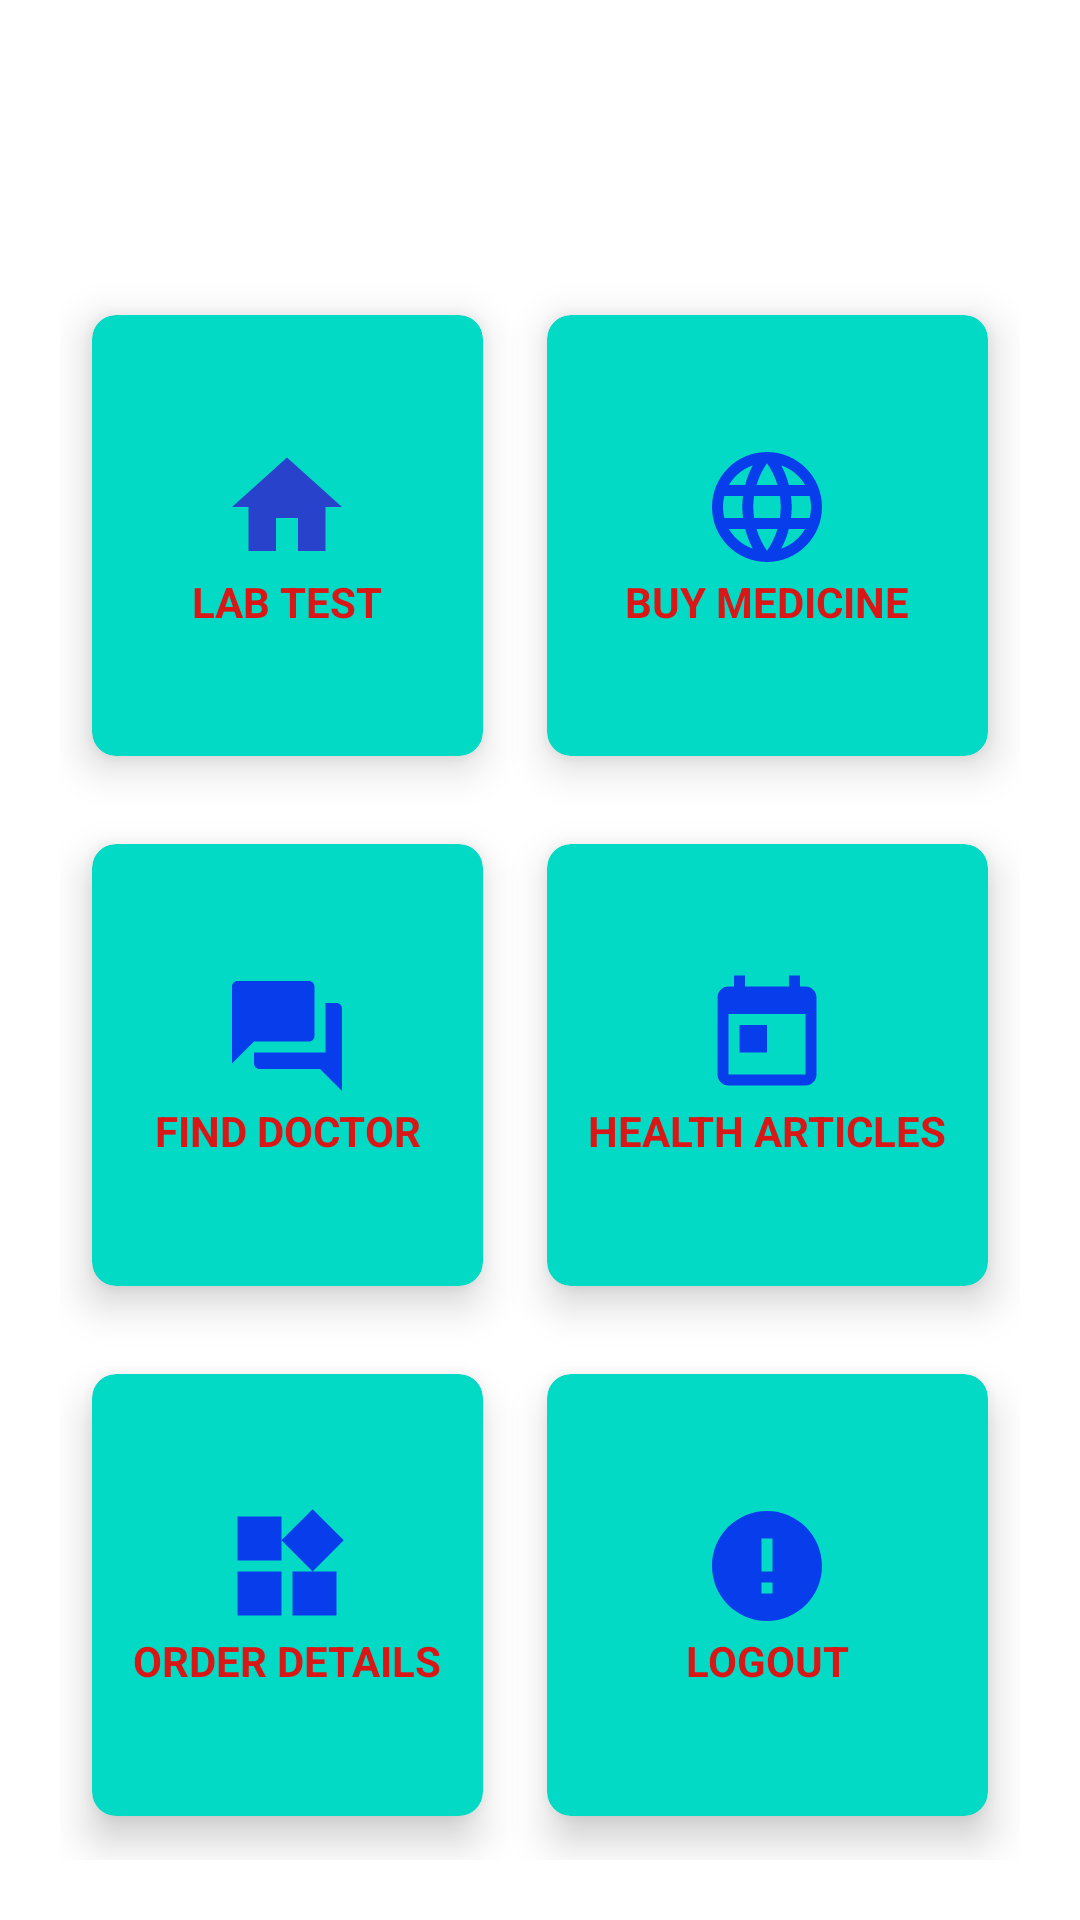

Locate icon controls on the screen. Image size 1080*1920, boxes as {"left": x1, "top": y1, "right": x2, "bottom": y2}.
home: {"left": 232, "top": 458, "right": 342, "bottom": 551}
language: {"left": 712, "top": 452, "right": 822, "bottom": 562}
